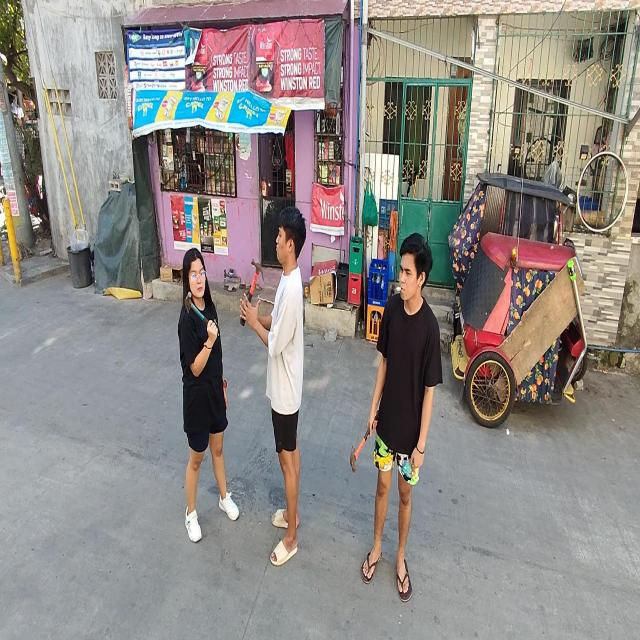hammer: (350, 410, 379, 473), (240, 258, 264, 326), (185, 292, 208, 326)
